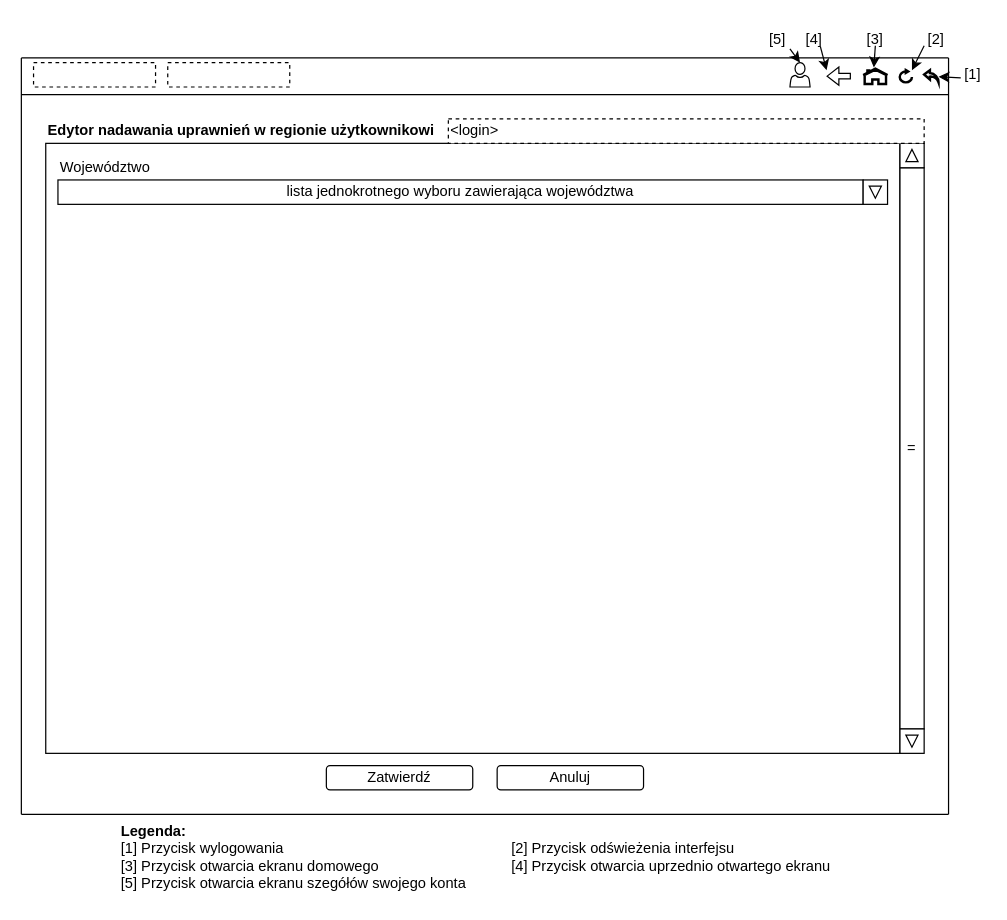
Image size: 1007x920. Some labels were removed from this diagram. The box of each missing label's shape, as (x1, y1, x2, y2) in pixels:
login: (32, 61, 156, 87)
rola: (167, 61, 290, 87)
